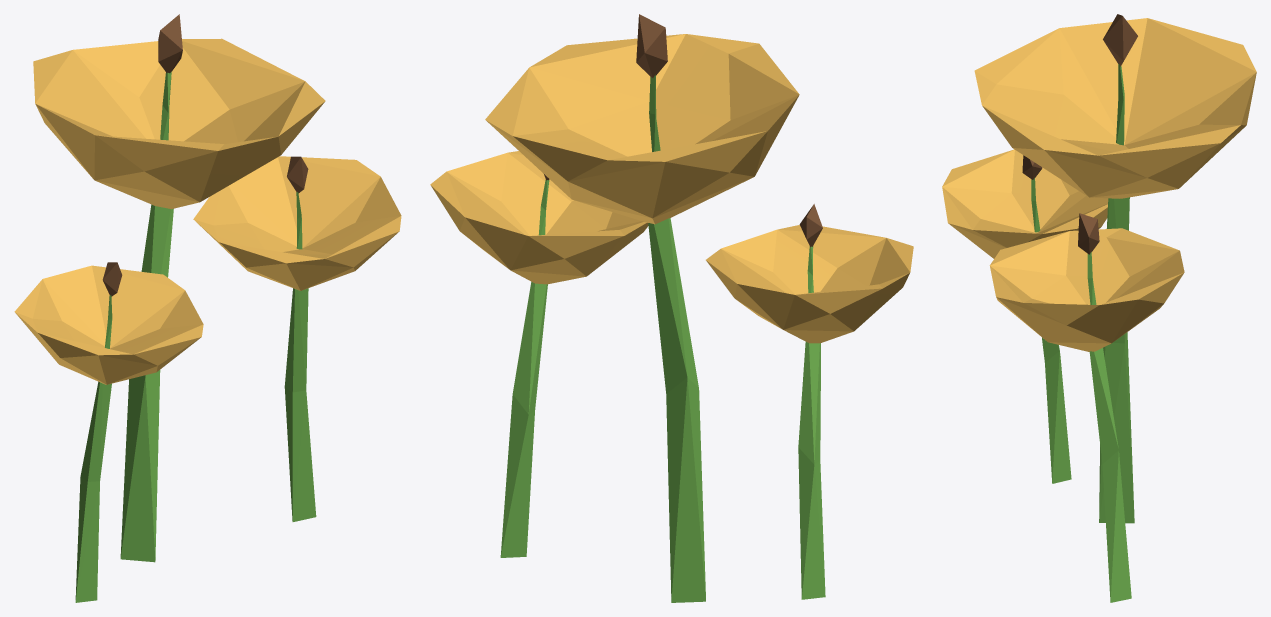
Rendered from Flower_03.fbx.
The picture shows the model from 3 angles, left to right: view 1: azimuth 30°, elevation 25°; view 2: azimuth 150°, elevation 25°; view 3: azimuth 270°, elevation 25°; orthographic projection. The views are drawn at different scales.
Visible parts, largest first — view 1: Flower_03; view 2: Flower_03; view 3: Flower_03.
Part boxes in pixels (box(x1,y1,x2,y2)): Flower_03: box(14, 14, 401, 602); Flower_03: box(430, 14, 913, 602); Flower_03: box(942, 14, 1256, 602).
Bounding box in the file's own units: 17.95 × 23.61 × 12.82.
